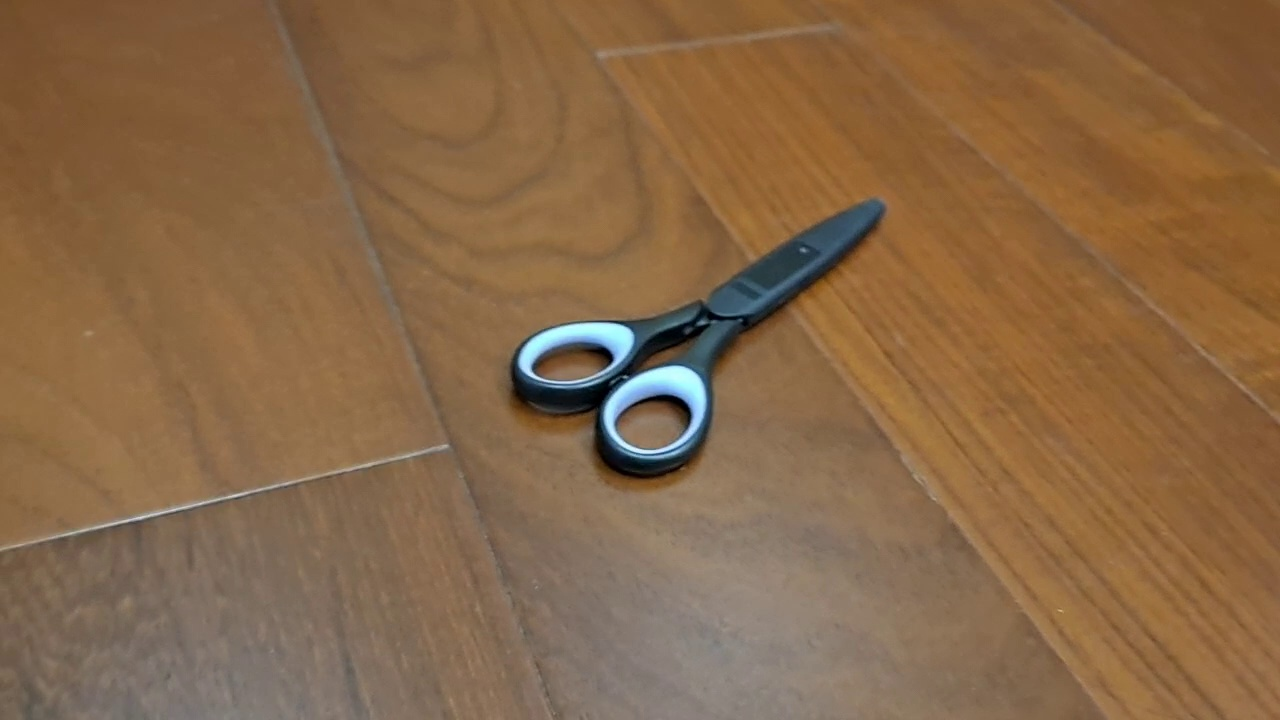scissors: (508, 195, 889, 479)
